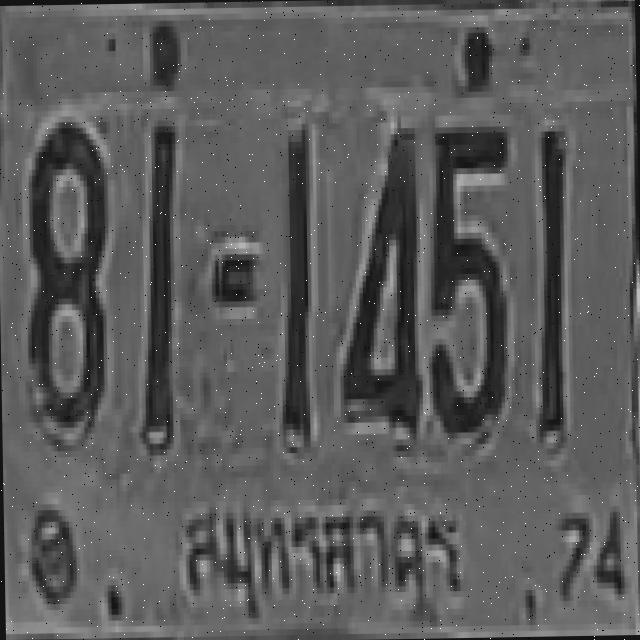1: (140, 120, 180, 444), (532, 128, 568, 439), (278, 127, 314, 438)
4: (338, 122, 422, 434)
5: (425, 124, 512, 436)
8: (23, 115, 112, 434)
SamutSakhon: (160, 474, 468, 622)
